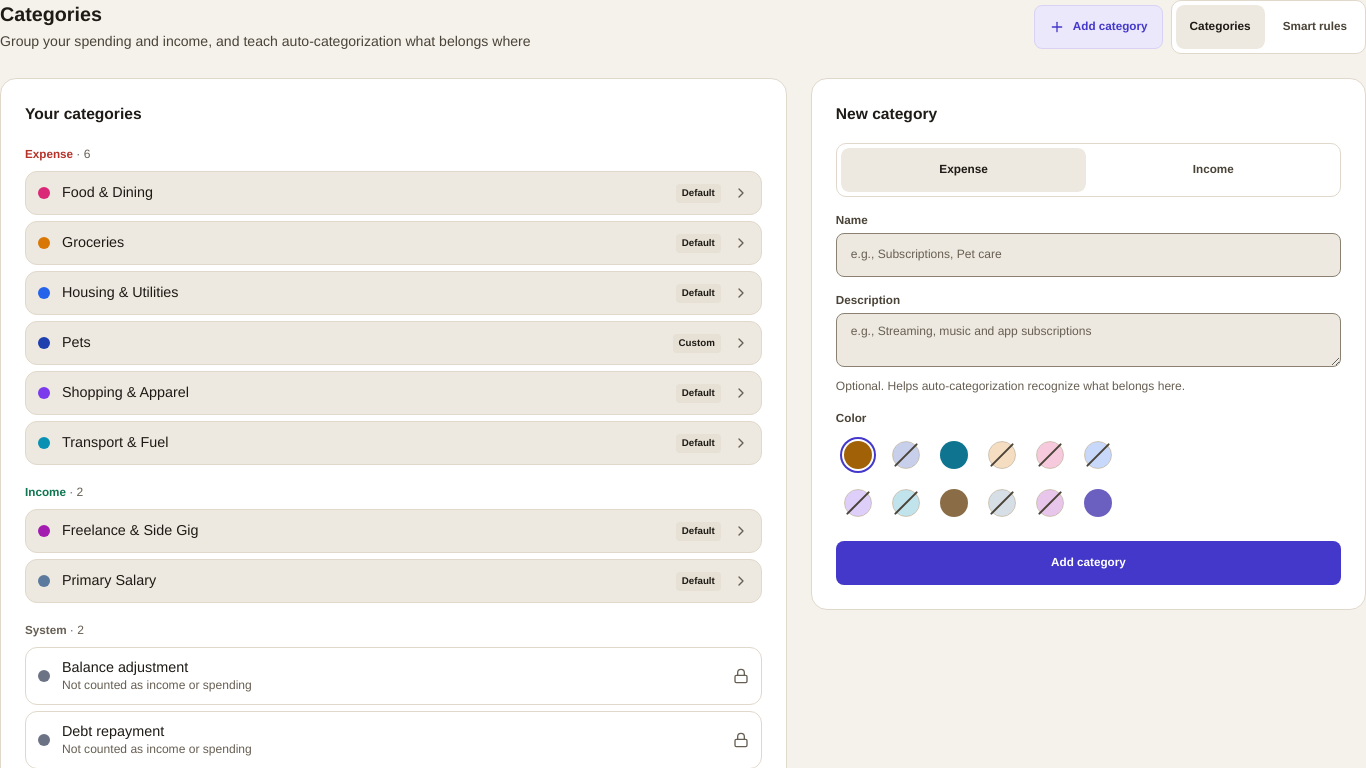
Test case: below lg › a row opens the edit form in a sheet, and the new form stays on the page
Click the button with id "category-edit-pets" at (697, 343), box [25,321,762,365]
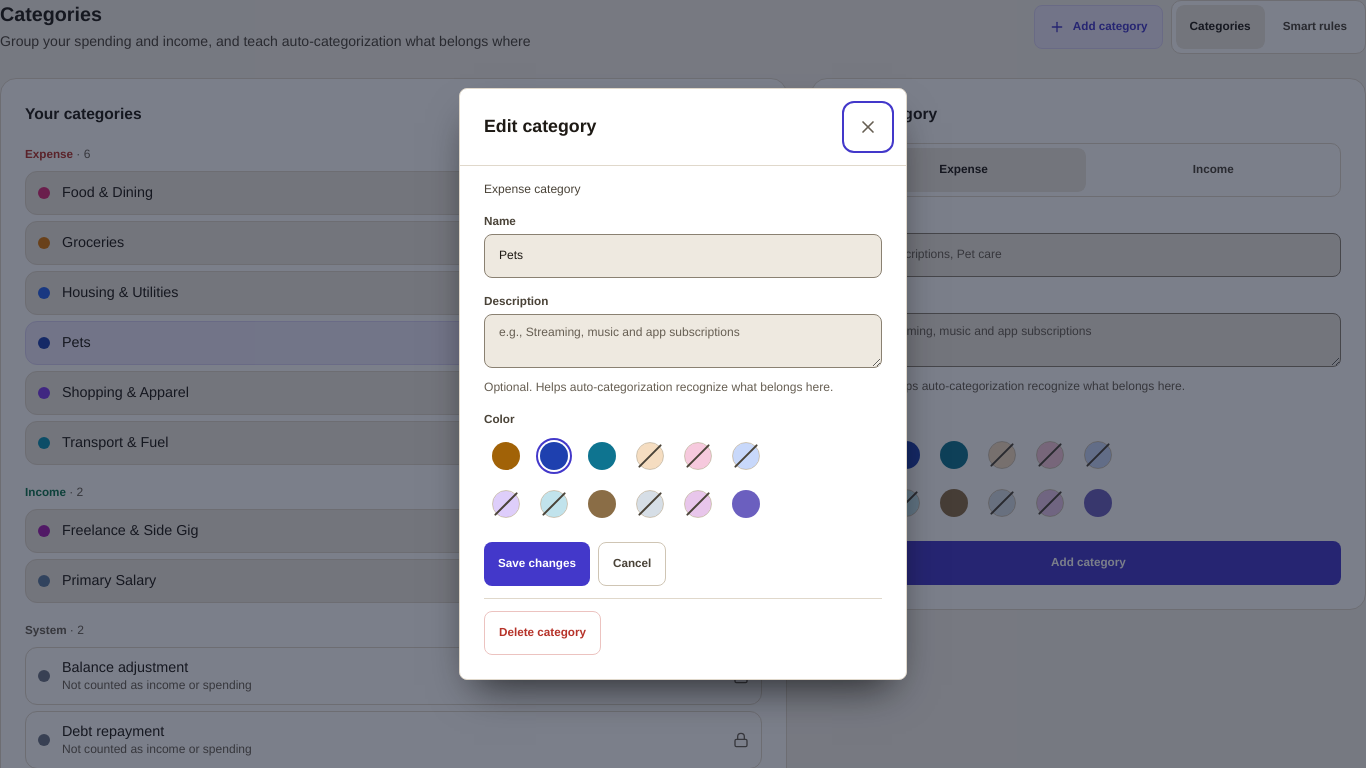
Expected: the field with id "category-new-name" is shown, [836,233,1341,277]
Expected: the field labelled "Name" holds "Pets", [484,234,882,278]
